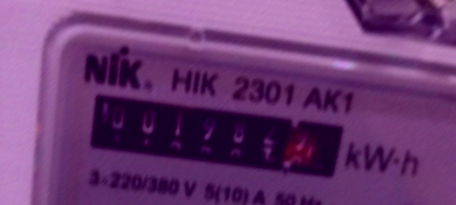0: (138, 106, 157, 136), (108, 101, 126, 131)
1: (170, 108, 183, 138)
2: (259, 117, 279, 147)
8: (229, 116, 247, 145)
9: (290, 125, 312, 154), (198, 113, 215, 143)
screen: (71, 79, 358, 193)
